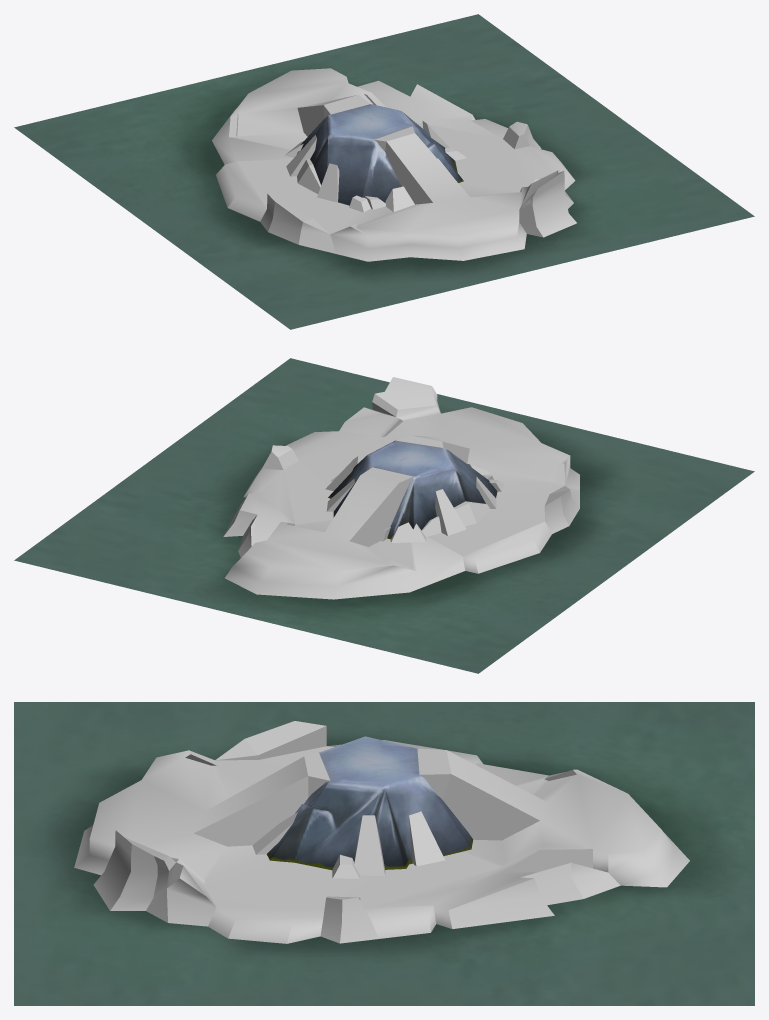
The model's file is Island.fbx.
The picture shows the model from 3 angles, top to bottom: view 1: azimuth 30°, elevation 25°; view 2: azimuth 150°, elevation 25°; view 3: azimuth 270°, elevation 25°; orthographic projection. The views are drawn at different scales.
Visible parts, largest first — view 1: Island; view 2: Island; view 3: Island.
Boxes of the visible parts, box(x1,y1,x2,y2) form: Island: box(14, 14, 754, 329); Island: box(14, 358, 754, 673); Island: box(14, 702, 754, 1005).
Size of the model in its own units: 370 by 45.07 by 381.
